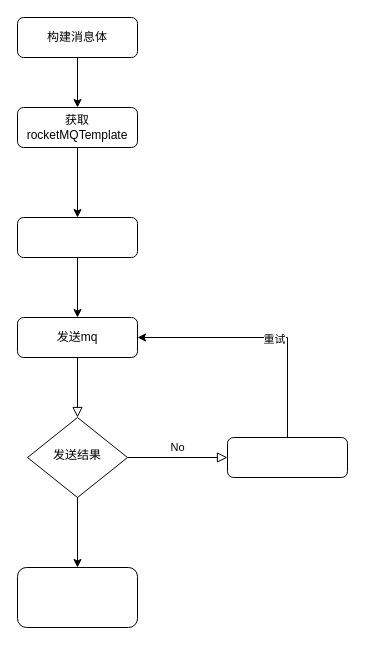
Some shapes in this 365 by 645 pixel diagram are drawn without their labels. Here are the shapes that lost their labels. From the top down, the centre of each, then its label:
At (x=77, y=237): "设置topic、tag、key".
At (x=287, y=457): "发送失败重试".
